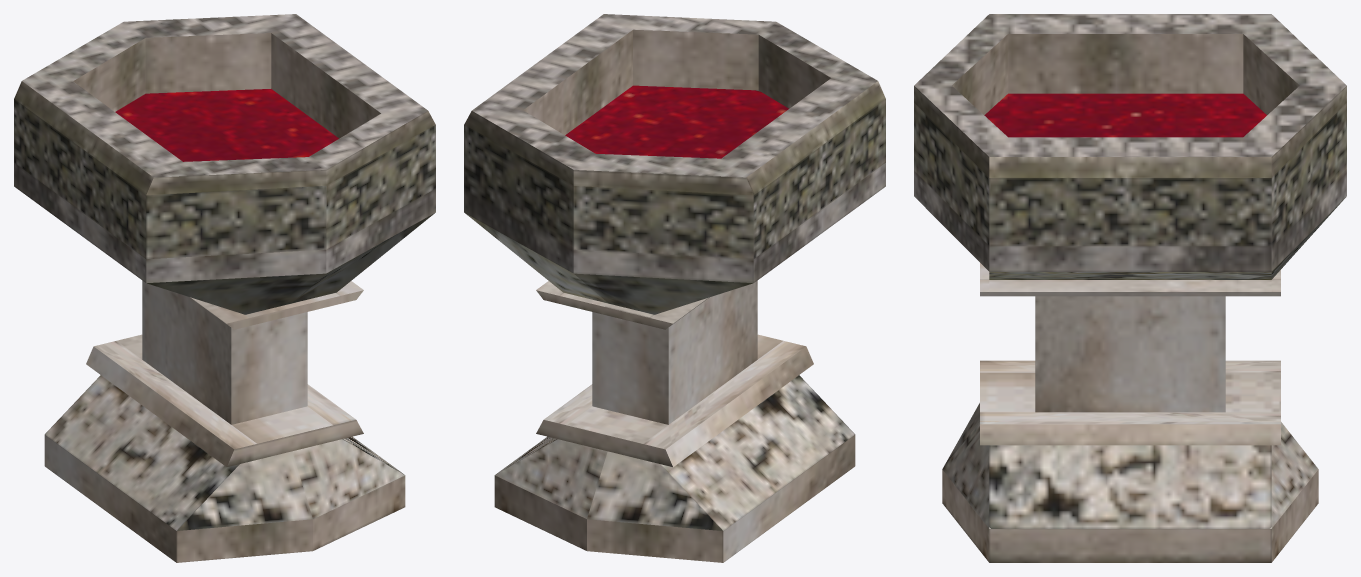
Rendered from blood font model.fbx.
The picture shows the model from 3 angles, left to right: view 1: azimuth 30°, elevation 25°; view 2: azimuth 150°, elevation 25°; view 3: azimuth 270°, elevation 25°; orthographic projection. The views are drawn at different scales.
Parts seen in each view (by area): view 1: Cube; view 2: Cube; view 3: Cube.
Boxes of the visible parts, <box> form: Cube: <box>14,14,435,562</box>; Cube: <box>464,14,885,562</box>; Cube: <box>914,14,1346,562</box>.
Size of the model in its own units: 380 by 460 by 490.
1 material, 1 textured.
